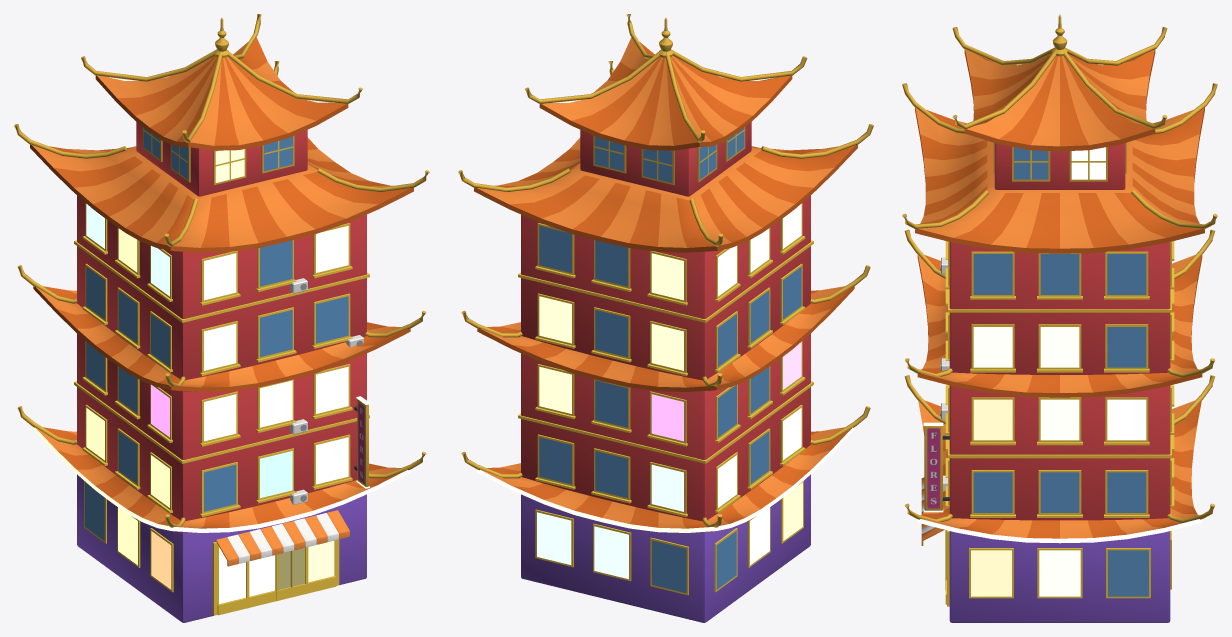
Rendered from predio_colorido_beirais_laranja.glb.
The picture shows the model from 3 angles, left to right: view 1: azimuth 30°, elevation 25°; view 2: azimuth 150°, elevation 25°; view 3: azimuth 270°, elevation 25°; orthographic projection. The views are drawn at different scales.
Visible parts, largest first — view 1: predio_colorido_beirais_laranja; view 2: predio_colorido_beirais_laranja; view 3: predio_colorido_beirais_laranja.
Part boxes in pixels (x1=…): predio_colorido_beirais_laranja: x1=14, y1=14, x2=429, y2=622; predio_colorido_beirais_laranja: x1=458, y1=14, x2=873, y2=622; predio_colorido_beirais_laranja: x1=902, y1=14, x2=1217, y2=622.
Bounding box in the file's own units: 12.56 × 24.78 × 12.58.
Materials: 10 (2 with a texture image).
